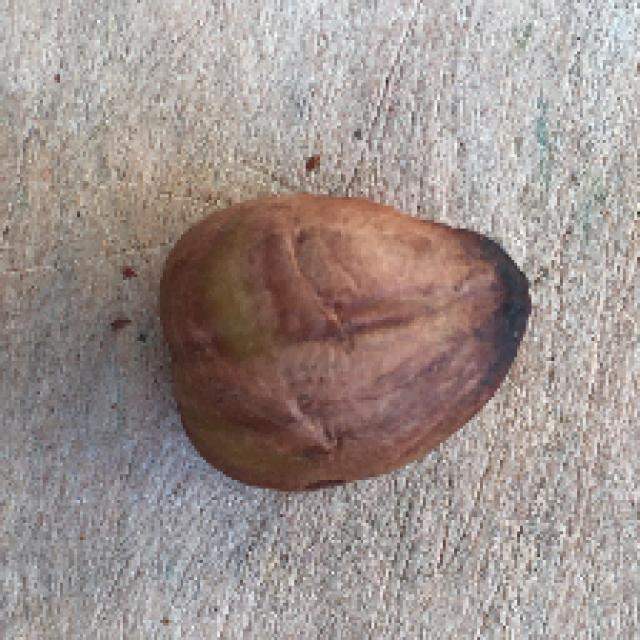hazelnut: (165, 179, 533, 493)
